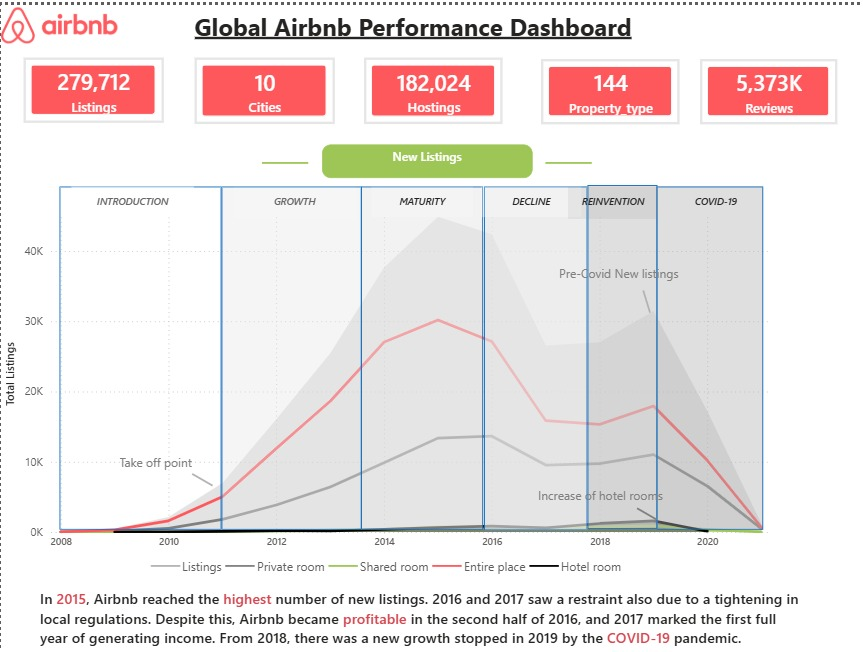

The dashboard page shown, as its layout file describes it:
{"tool":"powerbi","page":{"name":"Overview","canvas":[960,720],"ordinal":0},"visuals":[{"type":"textbox","box":[210.4,0,539.2,58.3],"z":0},{"type":"image","box":[0,0,129.5,45.3],"z":1000},{"type":"cardVisual","fields":{"Data":["CountNonNull(Listings.listing_id)"]},"box":[25.7,58.6,155.7,72.9],"z":2000},{"type":"cardVisual","fields":{"Data":["Count(Listings.city)"]},"box":[215.7,58.6,155.7,74.3],"z":3000},{"type":"cardVisual","fields":{"Data":["Count(Listings.host_id)"]},"box":[402.9,58.6,154.3,74.3],"z":4000},{"type":"cardVisual","fields":{"Data":["Count(Listings.property_type)"]},"box":[600,60,154.3,72.9],"z":5000},{"type":"cardVisual","fields":{"Data":["Count(Reviews.review_id)"]},"box":[777.1,60,152.9,72.9],"z":6000},{"type":"lineChart","fields":{"Category":["Listings.host_since.Variation.Date Hierarchy.Year"],"Y":["CountNonNull(Listings.listing_id)","Listings.Private room","Listings.Shared room","Listings.Entire place","Listings.Hotel room"]},"box":[0,220.2,861.4,422.6],"z":7000},{"type":"textbox","box":[356.2,154.9,234.3,37.1],"z":8000},{"type":"shape","box":[290.5,157.8,51.4,34.3],"z":9000},{"type":"shape","box":[604.8,157.8,51.4,34.3],"z":10000},{"type":"shape","box":[64.8,202.4,180,381.4],"z":11000},{"type":"shape","box":[244.3,201.4,155.7,381.4],"z":12000},{"type":"shape","box":[399.9,202.4,135.7,381.4],"z":13000},{"type":"shape","box":[536,202.4,115,382.1],"z":14000},{"type":"shape","box":[650.9,200.8,77.7,382.1],"z":15000},{"type":"shape","box":[728.6,201.4,118.6,381.4],"z":16000},{"type":"textbox","box":[77.6,201.9,135.7,34.3],"z":17000},{"type":"textbox","box":[259,201.9,135.7,35.7],"z":18000},{"type":"textbox","box":[411.9,201.9,112.9,34.3],"z":19000},{"type":"textbox","box":[533.3,201.9,111.4,34.3],"z":20000},{"type":"textbox","box":[630.5,201.9,100,35.7],"z":21000},{"type":"textbox","box":[740,201.4,108.6,34.3],"z":22000},{"type":"shape","box":[212.1,471.2,24.3,111.7],"z":23000},{"type":"textbox","box":[126.3,493.9,110.1,34],"z":24000},{"type":"shape","box":[677.1,317.1,81.4,25.7],"z":25000},{"type":"textbox","box":[615.7,282.9,150,31.4],"z":26000},{"type":"shape","box":[658.6,558.6,118.6,14.3],"z":27000},{"type":"textbox","box":[591.4,530,157.1,28.6],"z":28000},{"type":"textbox","box":[38.6,642.9,860,77.1],"z":29000}]}

Visuals, with their boxes in screenshot pixels (x1, y1, x2, y2), scaled from the page's 960x720 canvas onto the 863x652 screenshot:
textbox: 189, 0, 674, 53
image: 0, 0, 116, 41
cardVisual - CountNonNull(Listings.listing_id): 23, 53, 163, 119
cardVisual - Count(Listings.city): 194, 53, 334, 120
cardVisual - Count(Listings.host_id): 362, 53, 501, 120
cardVisual - Count(Listings.property_type): 539, 54, 678, 120
cardVisual - Count(Reviews.review_id): 699, 54, 836, 120
lineChart - Listings.host_since.Variation.Date Hierarchy.Year x CountNonNull(Listings.listing_id): 0, 199, 774, 582
textbox: 320, 140, 531, 174
shape: 261, 143, 307, 174
shape: 544, 143, 590, 174
shape: 58, 183, 220, 529
shape: 220, 182, 360, 528
shape: 359, 183, 481, 529
shape: 482, 183, 585, 529
shape: 585, 182, 655, 528
shape: 655, 182, 762, 528
textbox: 70, 183, 192, 214
textbox: 233, 183, 355, 215
textbox: 370, 183, 472, 214
textbox: 479, 183, 580, 214
textbox: 567, 183, 657, 215
textbox: 665, 182, 763, 213
shape: 191, 427, 213, 528
textbox: 114, 447, 213, 478
shape: 609, 287, 682, 310
textbox: 553, 256, 688, 285
shape: 592, 506, 699, 519
textbox: 532, 480, 673, 506
textbox: 35, 582, 808, 651
